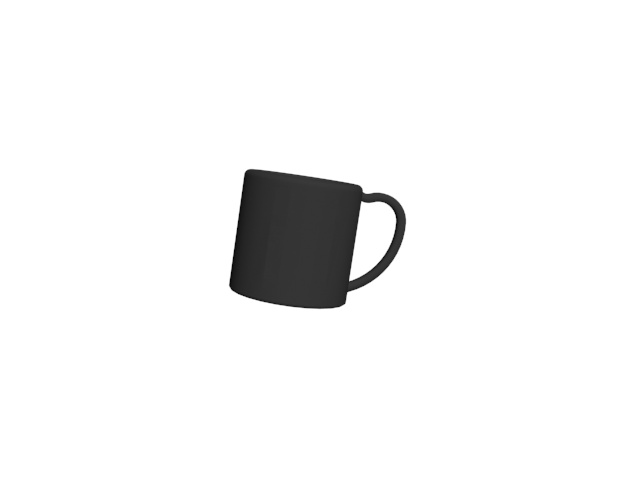mug: (225, 169, 408, 312)
